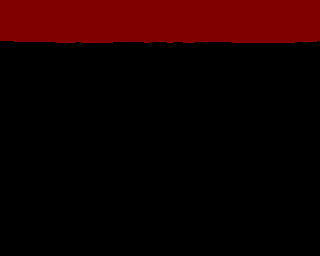Sky: (1, 1, 319, 255)
